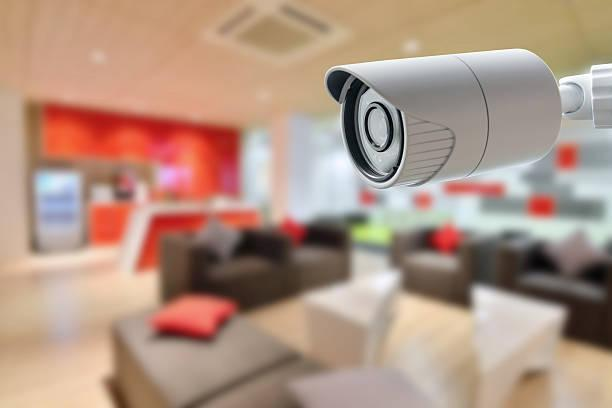camera: (299, 16, 586, 228)
